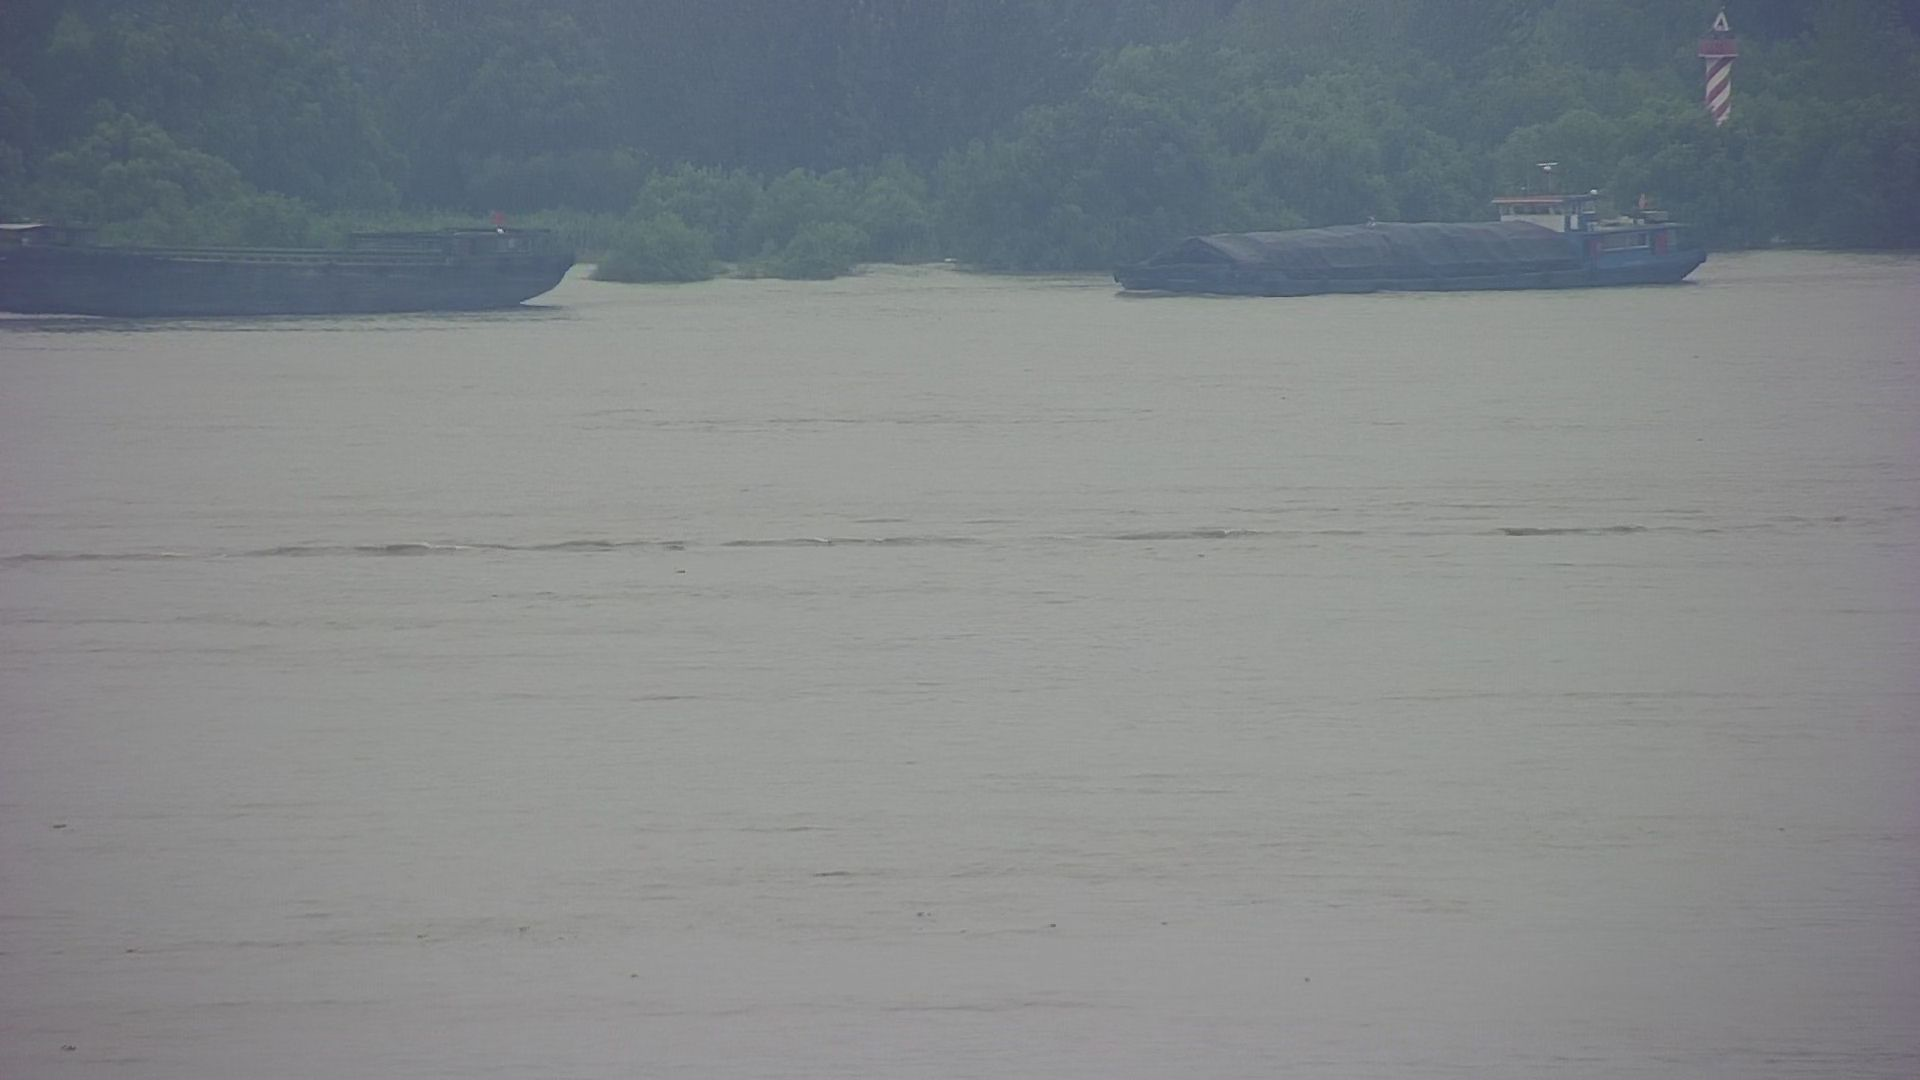ship: (1088, 138, 1760, 307), (1, 171, 593, 334)
